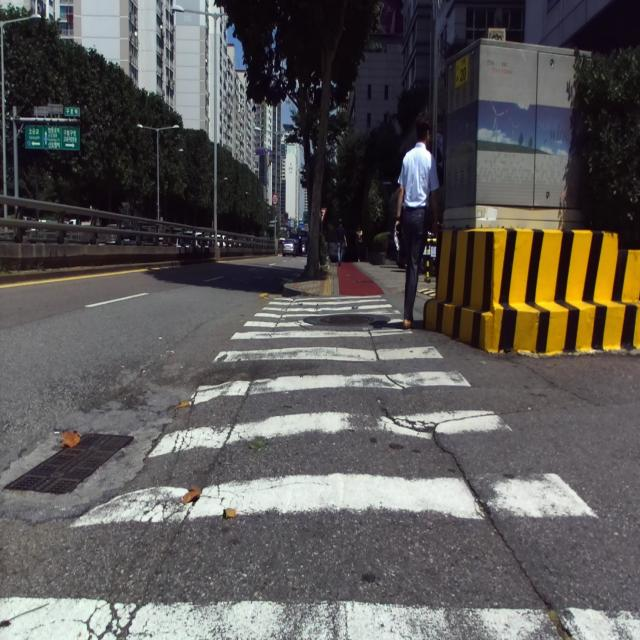횡단보도: (0, 297, 640, 640)
